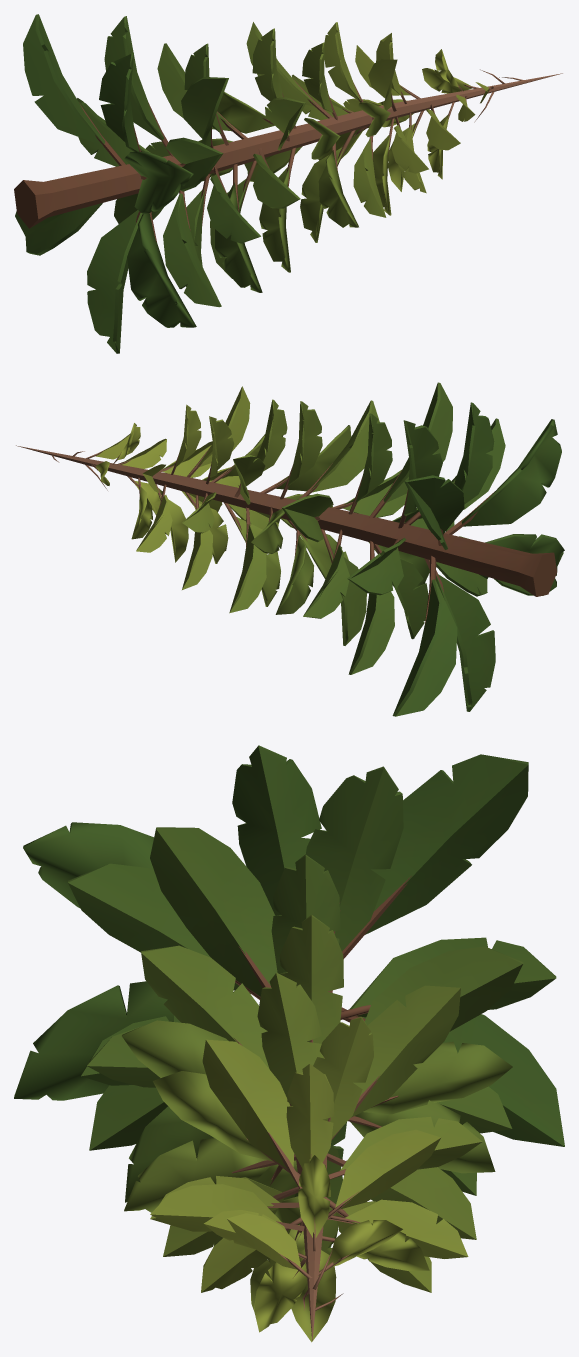
Rendered from Tree3Broke.fbx.
3 views of the same model, one above another, from view 1: azimuth 30°, elevation 25°; view 2: azimuth 150°, elevation 25°; view 3: azimuth 270°, elevation 25° (orthographic). The views are drawn at different scales.
Parts seen in each view (by area): view 1: Tree_01_LOD0_6_fracturepart4_13, Tree_01_LOD0_6_fracturepart4_3, Tree_01_LOD0_6_fracturepart10, Tree_01_LOD0_6_fracturepart, Tree_01_LOD0_6_fracturepart_12, Tree_01_LOD0_6_fracturepart1_26, Tree_01_LOD0_6_fracturepart8_2, Tree_01_LOD0_6_fracturepart3_7, Tree_01_LOD0_6_fracturepart9_2, Tree_01_LOD0_6_fracturepart10_2, Tree_01_LOD0_6_fracturepart_4, Tree_01_LOD0_6_fracturepart8_4 (+37 smaller); view 2: Tree_01_LOD0_6_fracturepart_12, Tree_01_LOD0_6_fracturepart4_13, Tree_01_LOD0_6_fracturepart9_2, Tree_01_LOD0_6_fracturepart4_3, Tree_01_LOD0_6_fracturepart7_26, Tree_01_LOD0_6_fracturepart1_26, Tree_01_LOD0_6_fracturepart10, Tree_01_LOD0_6_fracturepart5_2, Tree_01_LOD0_6_fracturepart3_11, Tree_01_LOD0_6_fracturepart3_7, Tree_01_LOD0_6_fracturepart2_6, Tree_01_LOD0_6_fracturepart8_6 (+35 smaller); view 3: Tree_01_LOD0_6_fracturepart10, Tree_01_LOD0_6_fracturepart3_7, Tree_01_LOD0_6_fracturepart, Tree_01_LOD0_6_fracturepart2_7, Tree_01_LOD0_6_fracturepart3_5, Tree_01_LOD0_6_fracturepart5_13, Tree_01_LOD0_6_fracturepart9_2, Tree_01_LOD0_6_fracturepart10_2, Tree_01_LOD0_6_fracturepart3_10, Tree_01_LOD0_6_fracturepart_12, Tree_01_LOD0_6_fracturepart_6, Tree_01_LOD0_6_fracturepart5_8 (+48 smaller).
Boxes of the visible parts, bbox=[...] form: Tree_01_LOD0_6_fracturepart4_13: bbox=[14, 164, 141, 228]; Tree_01_LOD0_6_fracturepart4_3: bbox=[87, 214, 139, 353]; Tree_01_LOD0_6_fracturepart10: bbox=[23, 14, 97, 137]; Tree_01_LOD0_6_fracturepart: bbox=[127, 213, 196, 327]; Tree_01_LOD0_6_fracturepart_12: bbox=[124, 151, 193, 213]; Tree_01_LOD0_6_fracturepart1_26: bbox=[304, 73, 562, 145]; Tree_01_LOD0_6_fracturepart8_2: bbox=[165, 228, 221, 307]; Tree_01_LOD0_6_fracturepart3_7: bbox=[181, 77, 228, 143]; Tree_01_LOD0_6_fracturepart9_2: bbox=[15, 207, 86, 255]; Tree_01_LOD0_6_fracturepart10_2: bbox=[99, 53, 133, 124]; Tree_01_LOD0_6_fracturepart_4: bbox=[215, 182, 262, 292]; Tree_01_LOD0_6_fracturepart8_4: bbox=[207, 182, 260, 243]; Tree_01_LOD0_6_fracturepart_12: bbox=[461, 419, 561, 526]; Tree_01_LOD0_6_fracturepart4_13: bbox=[434, 534, 557, 596]; Tree_01_LOD0_6_fracturepart9_2: bbox=[392, 594, 457, 716]; Tree_01_LOD0_6_fracturepart4_3: bbox=[439, 579, 495, 711]; Tree_01_LOD0_6_fracturepart7_26: bbox=[324, 509, 446, 559]; Tree_01_LOD0_6_fracturepart1_26: bbox=[16, 445, 276, 514]; Tree_01_LOD0_6_fracturepart10: bbox=[404, 475, 464, 549]; Tree_01_LOD0_6_fracturepart5_2: bbox=[310, 400, 379, 492]; Tree_01_LOD0_6_fracturepart3_11: bbox=[357, 413, 392, 499]; Tree_01_LOD0_6_fracturepart3_7: bbox=[392, 382, 452, 490]; Tree_01_LOD0_6_fracturepart2_6: bbox=[229, 526, 266, 613]; Tree_01_LOD0_6_fracturepart8_6: bbox=[397, 559, 428, 639]; Tree_01_LOD0_6_fracturepart10: bbox=[371, 754, 528, 922]; Tree_01_LOD0_6_fracturepart3_7: bbox=[150, 827, 277, 975]; Tree_01_LOD0_6_fracturepart: bbox=[14, 981, 173, 1100]; Tree_01_LOD0_6_fracturepart2_7: bbox=[351, 986, 460, 1117]; Tree_01_LOD0_6_fracturepart3_5: bbox=[305, 794, 377, 951]; Tree_01_LOD0_6_fracturepart5_13: bbox=[202, 1039, 293, 1168]; Tree_01_LOD0_6_fracturepart9_2: bbox=[443, 1014, 564, 1146]; Tree_01_LOD0_6_fracturepart10_2: bbox=[232, 745, 321, 862]; Tree_01_LOD0_6_fracturepart3_10: bbox=[365, 946, 523, 1031]; Tree_01_LOD0_6_fracturepart_12: bbox=[23, 822, 153, 908]; Tree_01_LOD0_6_fracturepart_6: bbox=[363, 1041, 512, 1114]; Tree_01_LOD0_6_fracturepart5_8: bbox=[257, 972, 323, 1105].
Bounding box in the file's own units: 794 × 434 × 424.
1 material, 1 textured.
